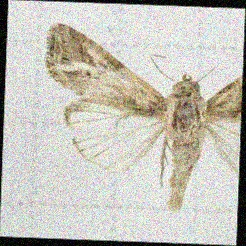Spodoptera litura: (42, 25, 241, 211)
